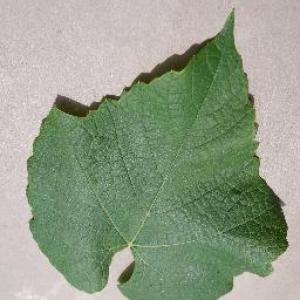Folha: (24, 7, 290, 299)
